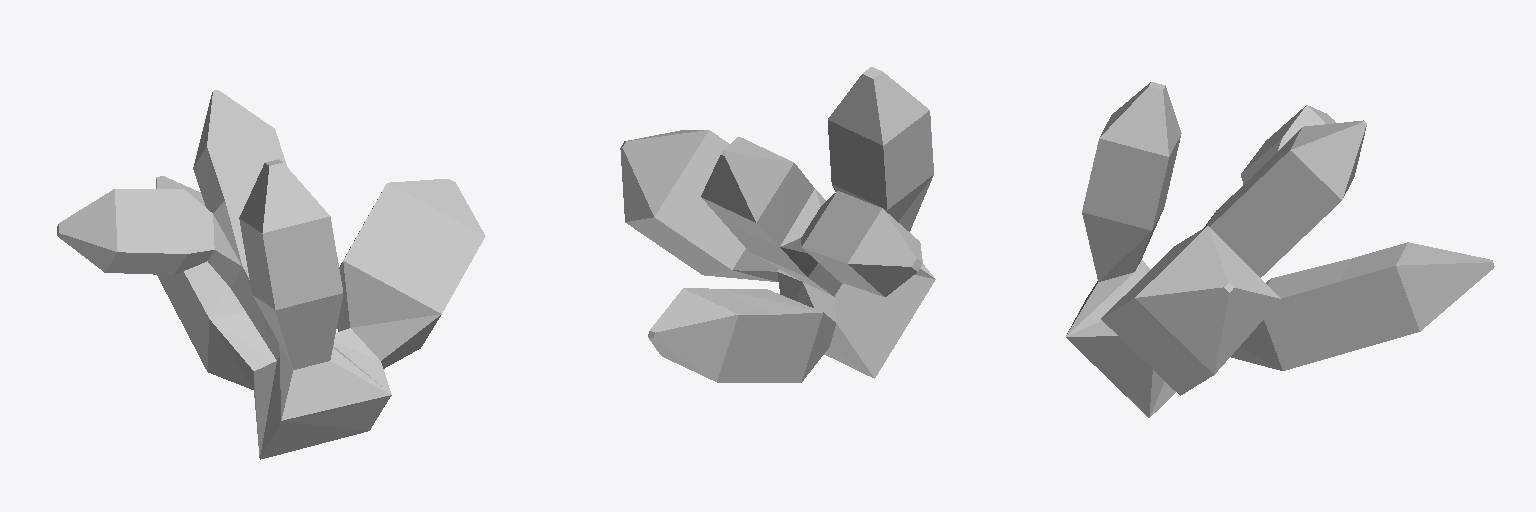
File: crystal.obj
3 renders of one model, left to right at view 1: azimuth 30°, elevation 25°; view 2: azimuth 150°, elevation 25°; view 3: azimuth 270°, elevation 25°, orthographic.
Visible parts, largest first — view 1: Cube.013; view 2: Cube.013; view 3: Cube.013.
Part boxes in pixels (left/top/right/bottom): Cube.013: left=57, top=90, right=485, bottom=459; Cube.013: left=620, top=67, right=935, bottom=382; Cube.013: left=1066, top=82, right=1494, bottom=417.
Bounding box in the file's own units: 1.26 × 1.03 × 1.33.